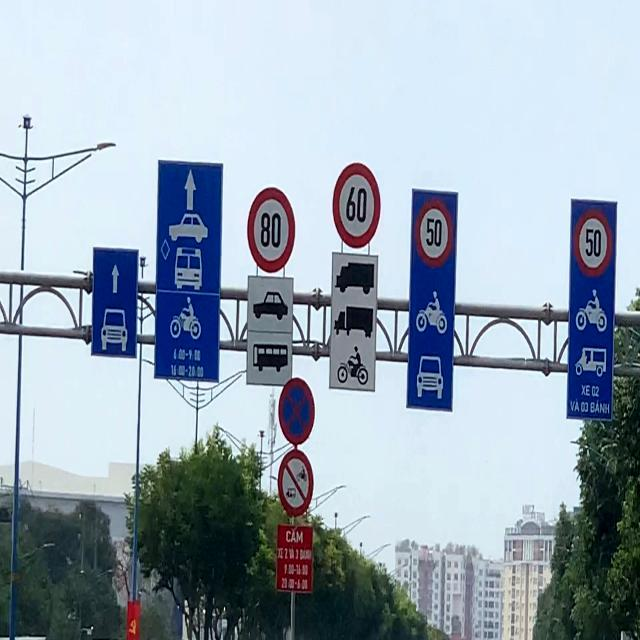Cam dung xe va do xe: (276, 376, 316, 447)
Toc do toi da cho phep: (333, 153, 387, 246), (250, 184, 295, 272), (418, 192, 453, 268), (574, 208, 611, 278)
